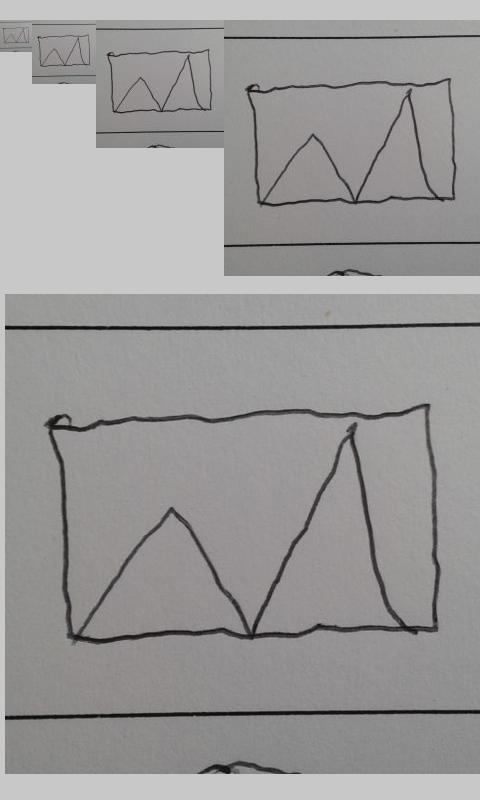image_view: (48, 403, 441, 648), (246, 77, 457, 207), (106, 49, 213, 114), (37, 34, 91, 67), (2, 26, 30, 44)
